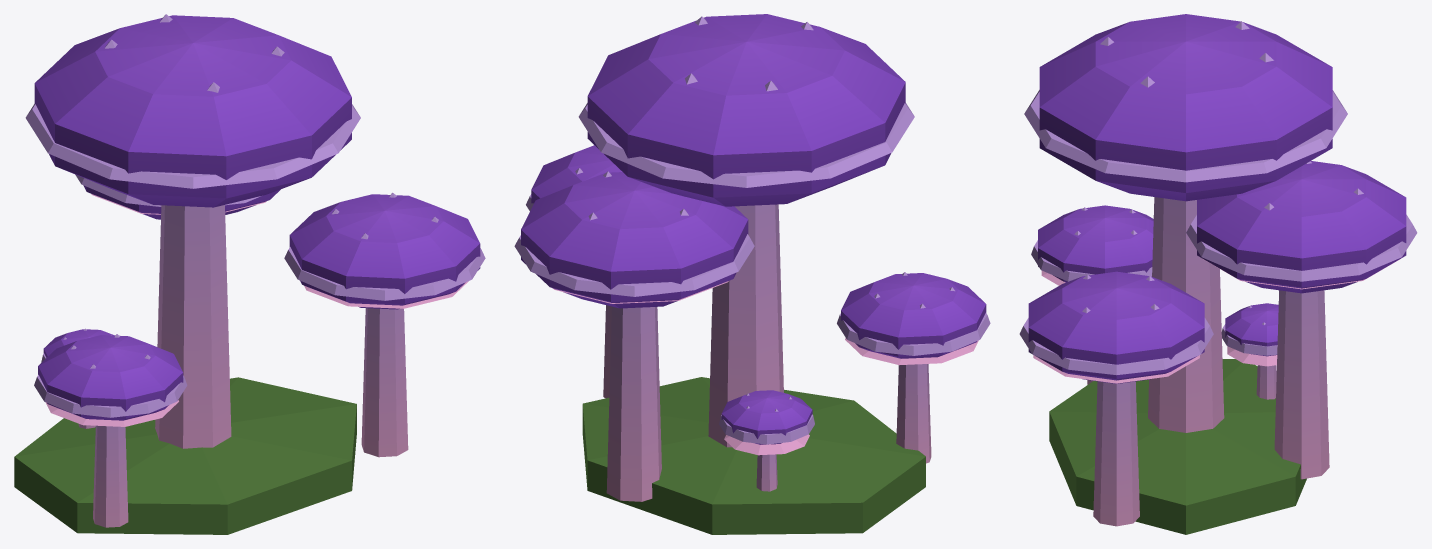
File: neon_mushrooms_violet.glb
3 views of the same model, side by side, from view 1: azimuth 30°, elevation 25°; view 2: azimuth 150°, elevation 25°; view 3: azimuth 270°, elevation 25° (orthographic). The views are drawn at different scales.
Parts seen in each view (by area): view 1: neon_mushrooms_violet; view 2: neon_mushrooms_violet; view 3: neon_mushrooms_violet.
Part boxes in pixels (x1,y1,x2,y2): neon_mushrooms_violet: [14, 14, 485, 534]; neon_mushrooms_violet: [514, 14, 990, 534]; neon_mushrooms_violet: [1019, 14, 1417, 534].
Size of the model in its own units: 2.09 by 2.05 by 1.72.
